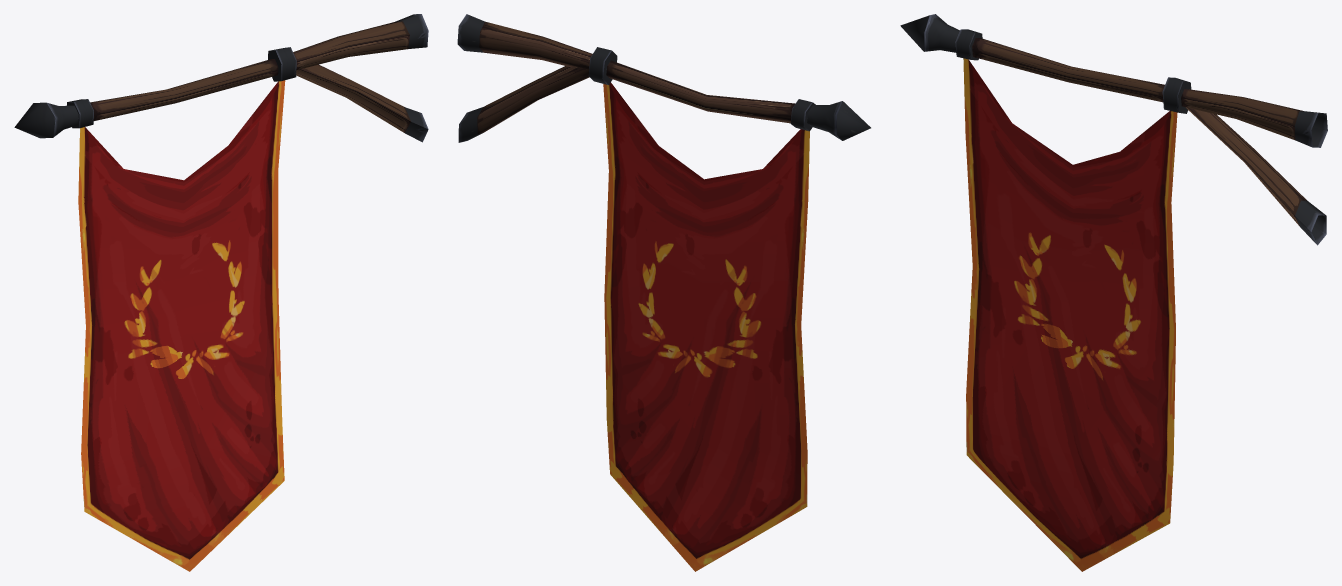
File: SM_PROP_flag_dungeon_02.fbx
The picture shows the model from 3 angles, left to right: view 1: azimuth 30°, elevation 25°; view 2: azimuth 150°, elevation 25°; view 3: azimuth 330°, elevation 25°; orthographic projection. The views are drawn at different scales.
Visible parts, largest first — view 1: SM_PROP_flag_dungeon_02; view 2: SM_PROP_flag_dungeon_02; view 3: SM_PROP_flag_dungeon_02.
Part boxes in pixels (x1=…): SM_PROP_flag_dungeon_02: x1=14, y1=14, x2=428, y2=571; SM_PROP_flag_dungeon_02: x1=457, y1=14, x2=870, y2=571; SM_PROP_flag_dungeon_02: x1=900, y1=14, x2=1327, y2=571.
Size of the model in its own units: 187 by 223 by 14.51.
